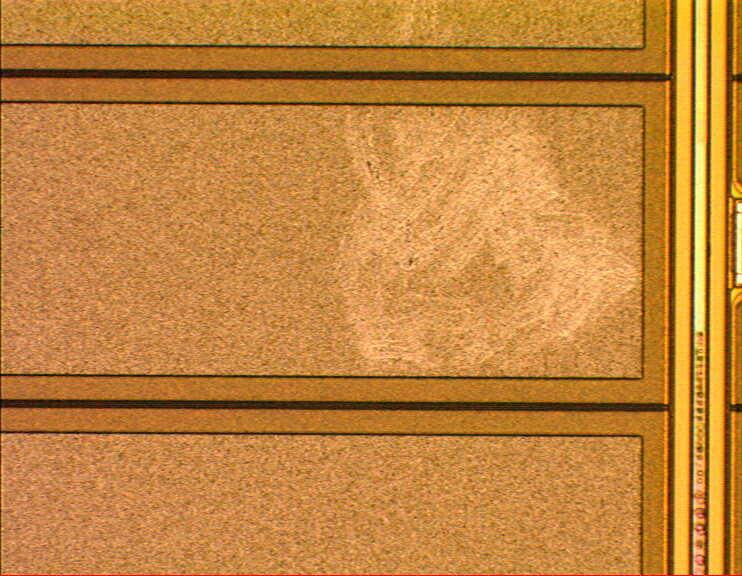SCRATCH: (329, 1, 655, 384)
